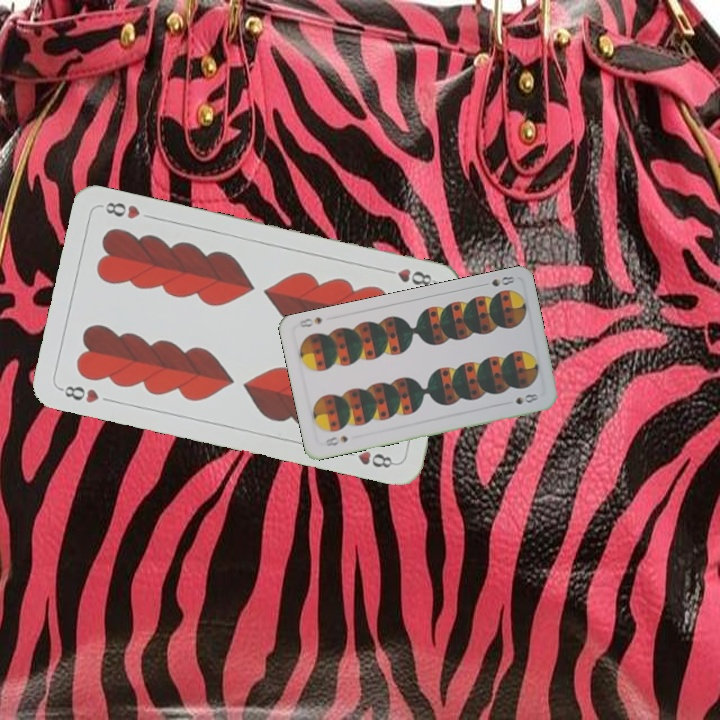H8: (380, 264, 438, 289), (56, 381, 102, 406)
S8: (477, 272, 517, 289), (319, 431, 350, 449)
